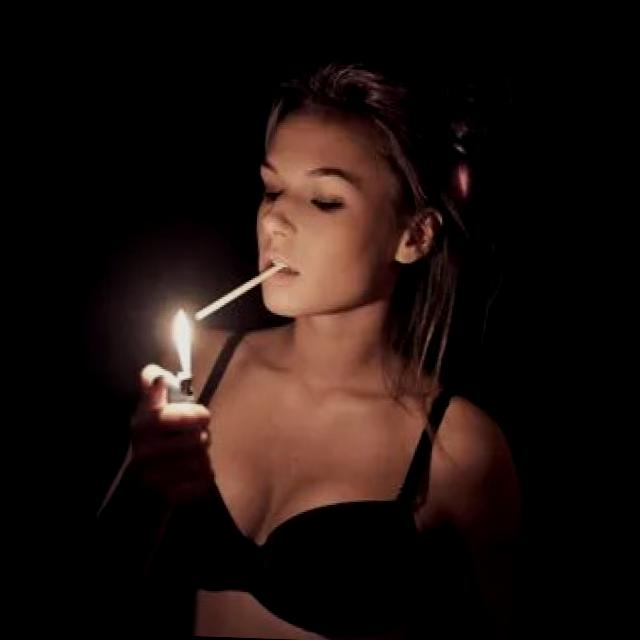smoke: (194, 258, 289, 330)
